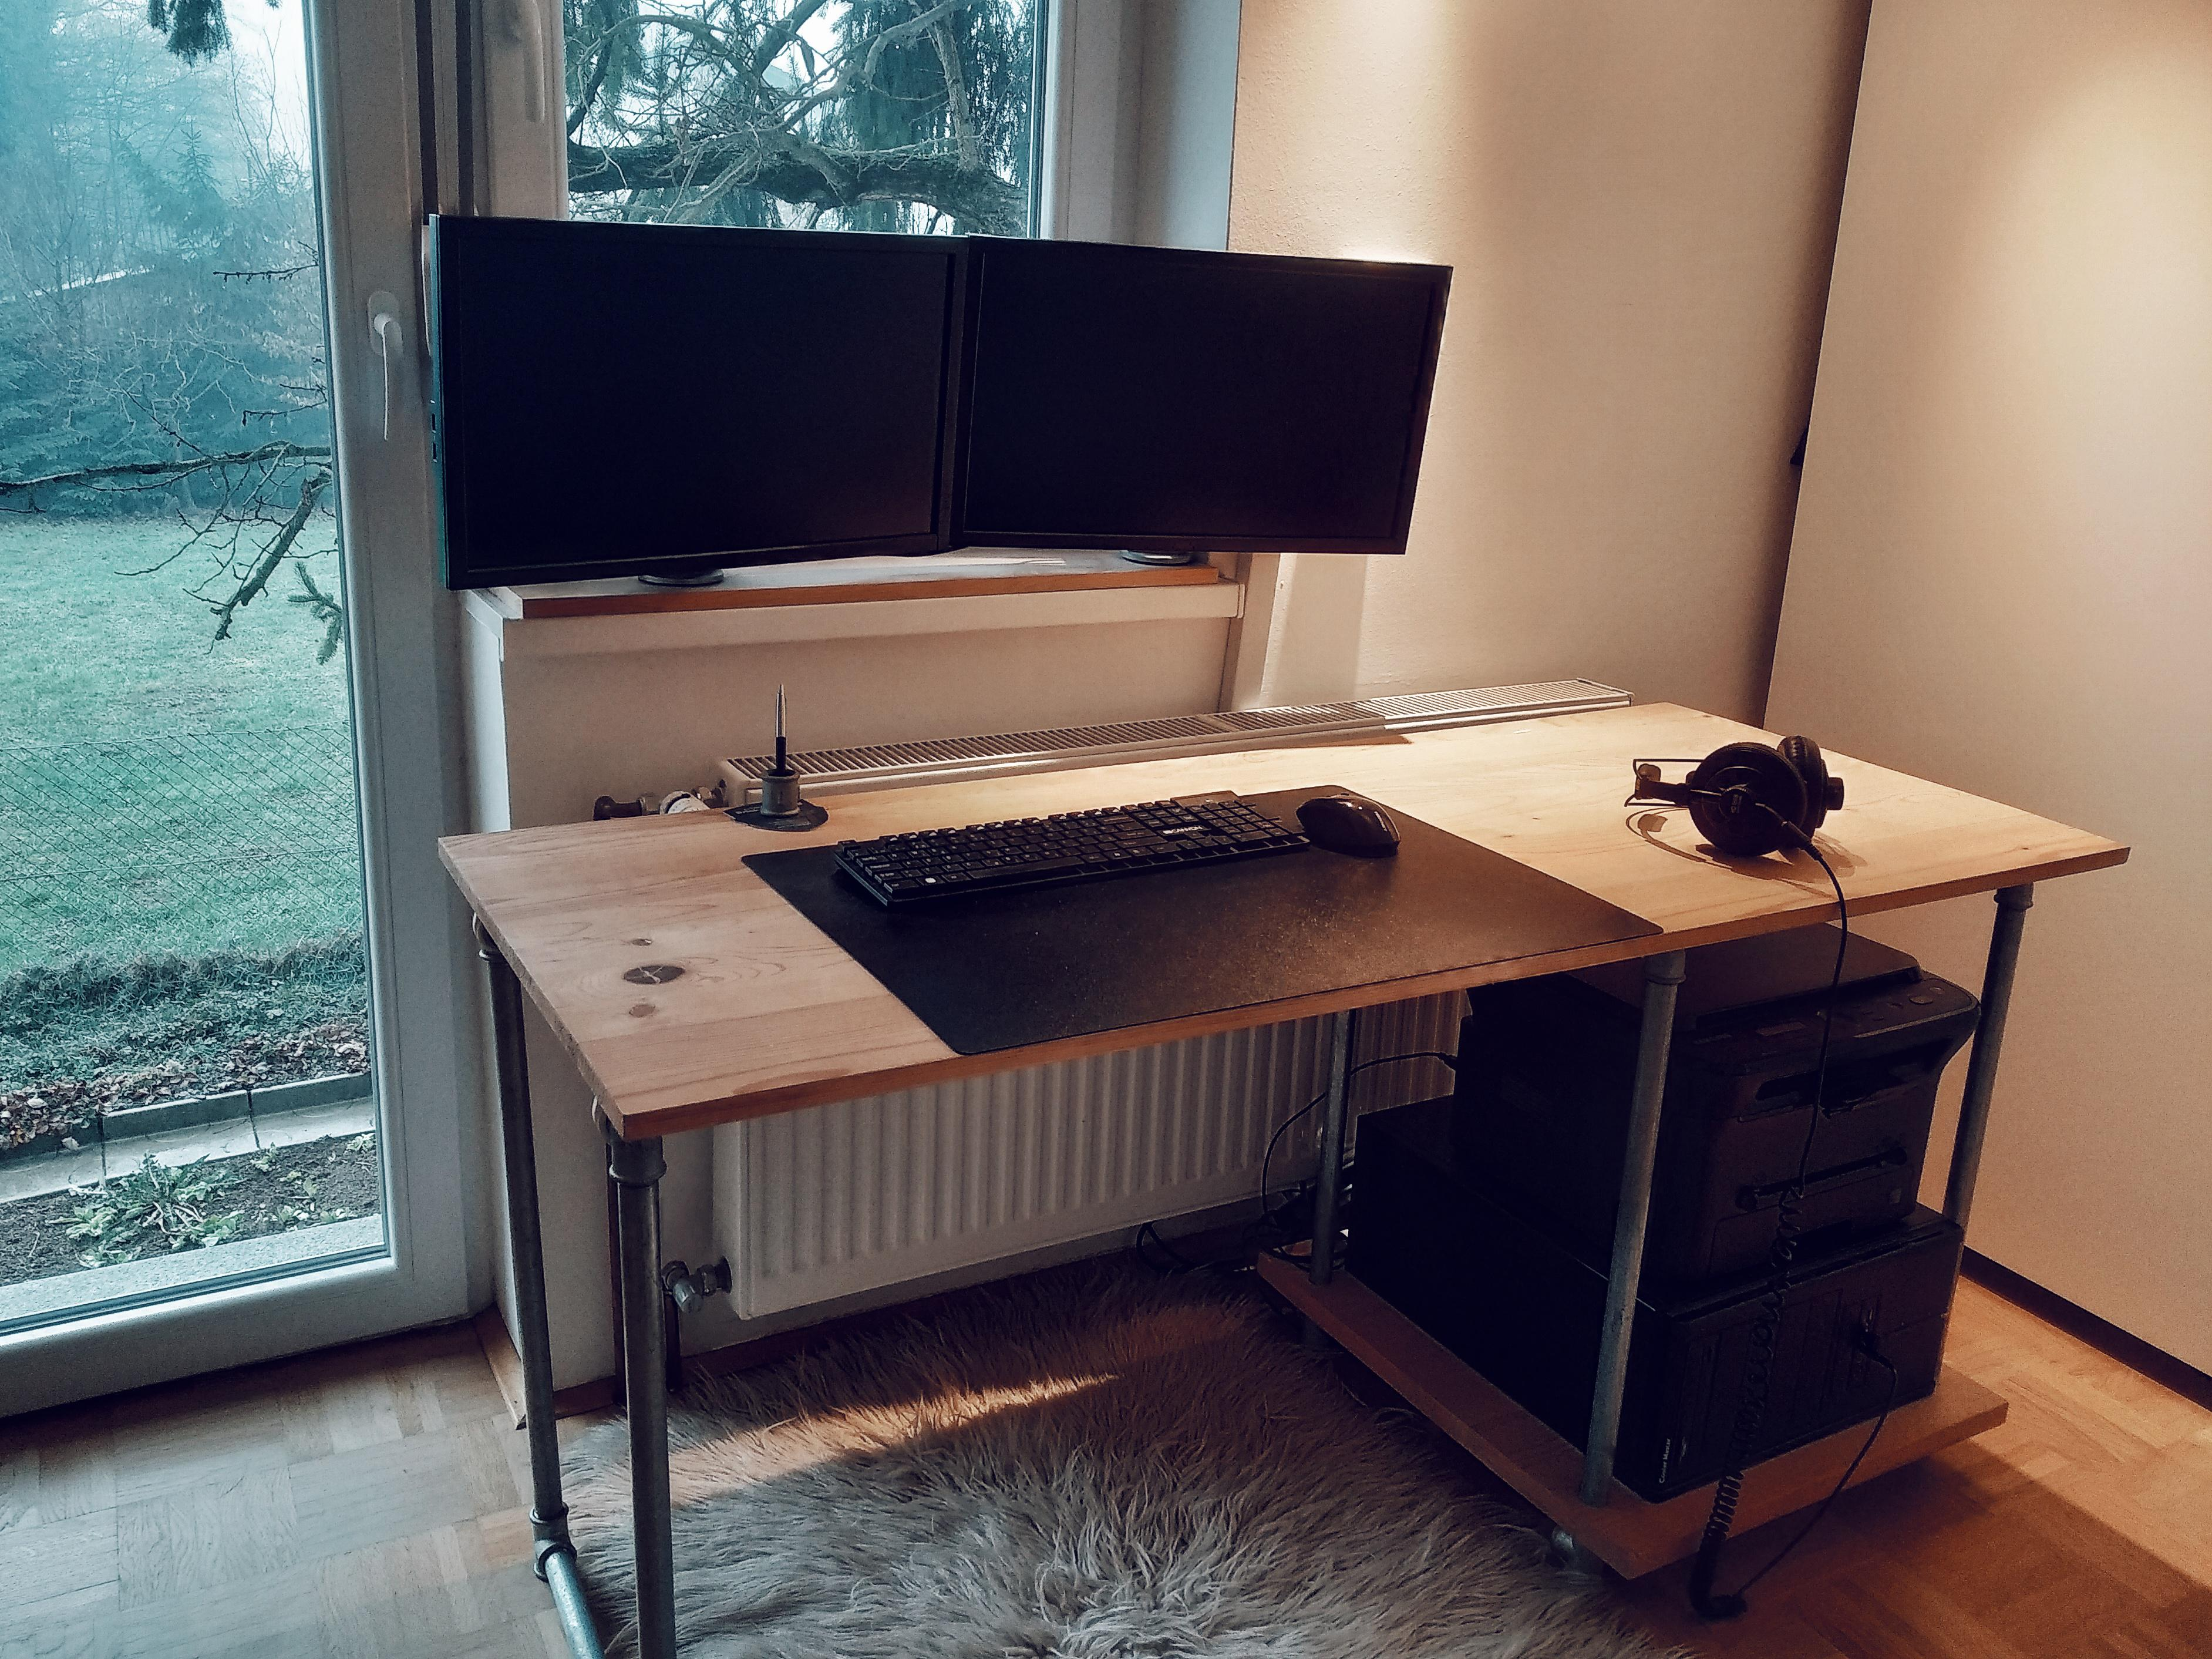Desk (Generic): (432, 699, 2132, 1659)
Desktop (Generic): (1345, 1094, 1963, 1509)
Headphones: (1625, 735, 1846, 863)
Keyboard (Gaming): (834, 798, 1313, 911)
Monitor (Landscape): (425, 209, 972, 592), (963, 239, 1456, 556)
Mouse (Ergonomic): (1294, 793, 1402, 854)
Mousepad (Gaming): (738, 781, 1663, 1060)
Printer: (1440, 922, 1982, 1276)
